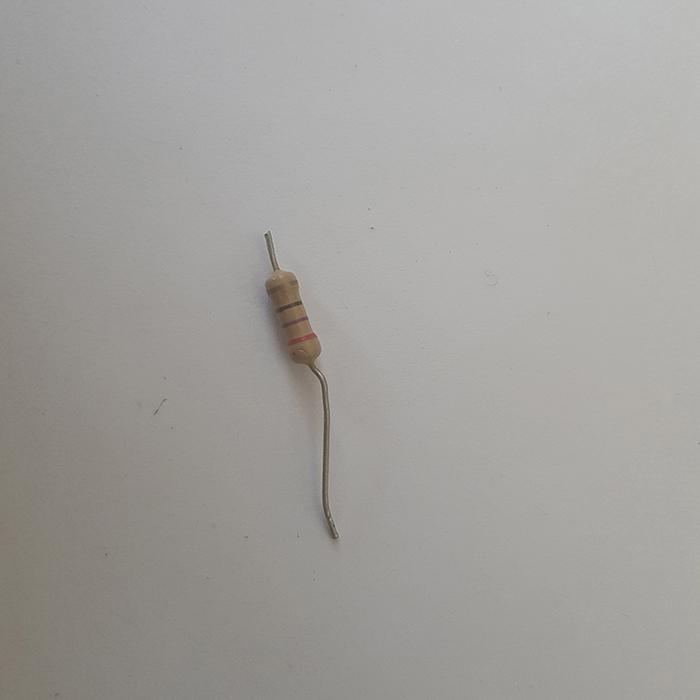resistor: (264, 254, 322, 366)
